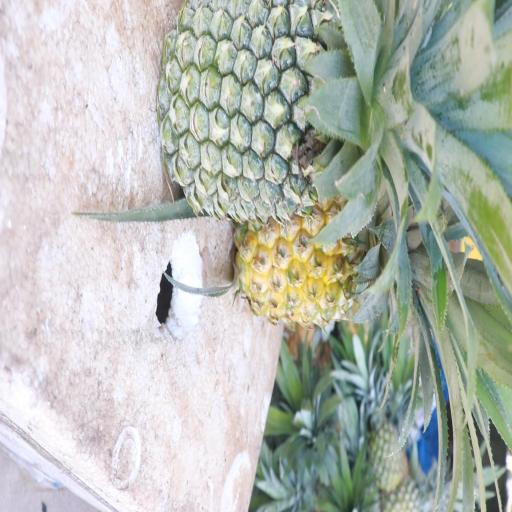Pineapple - v8 v1: (246, 212, 507, 418)
